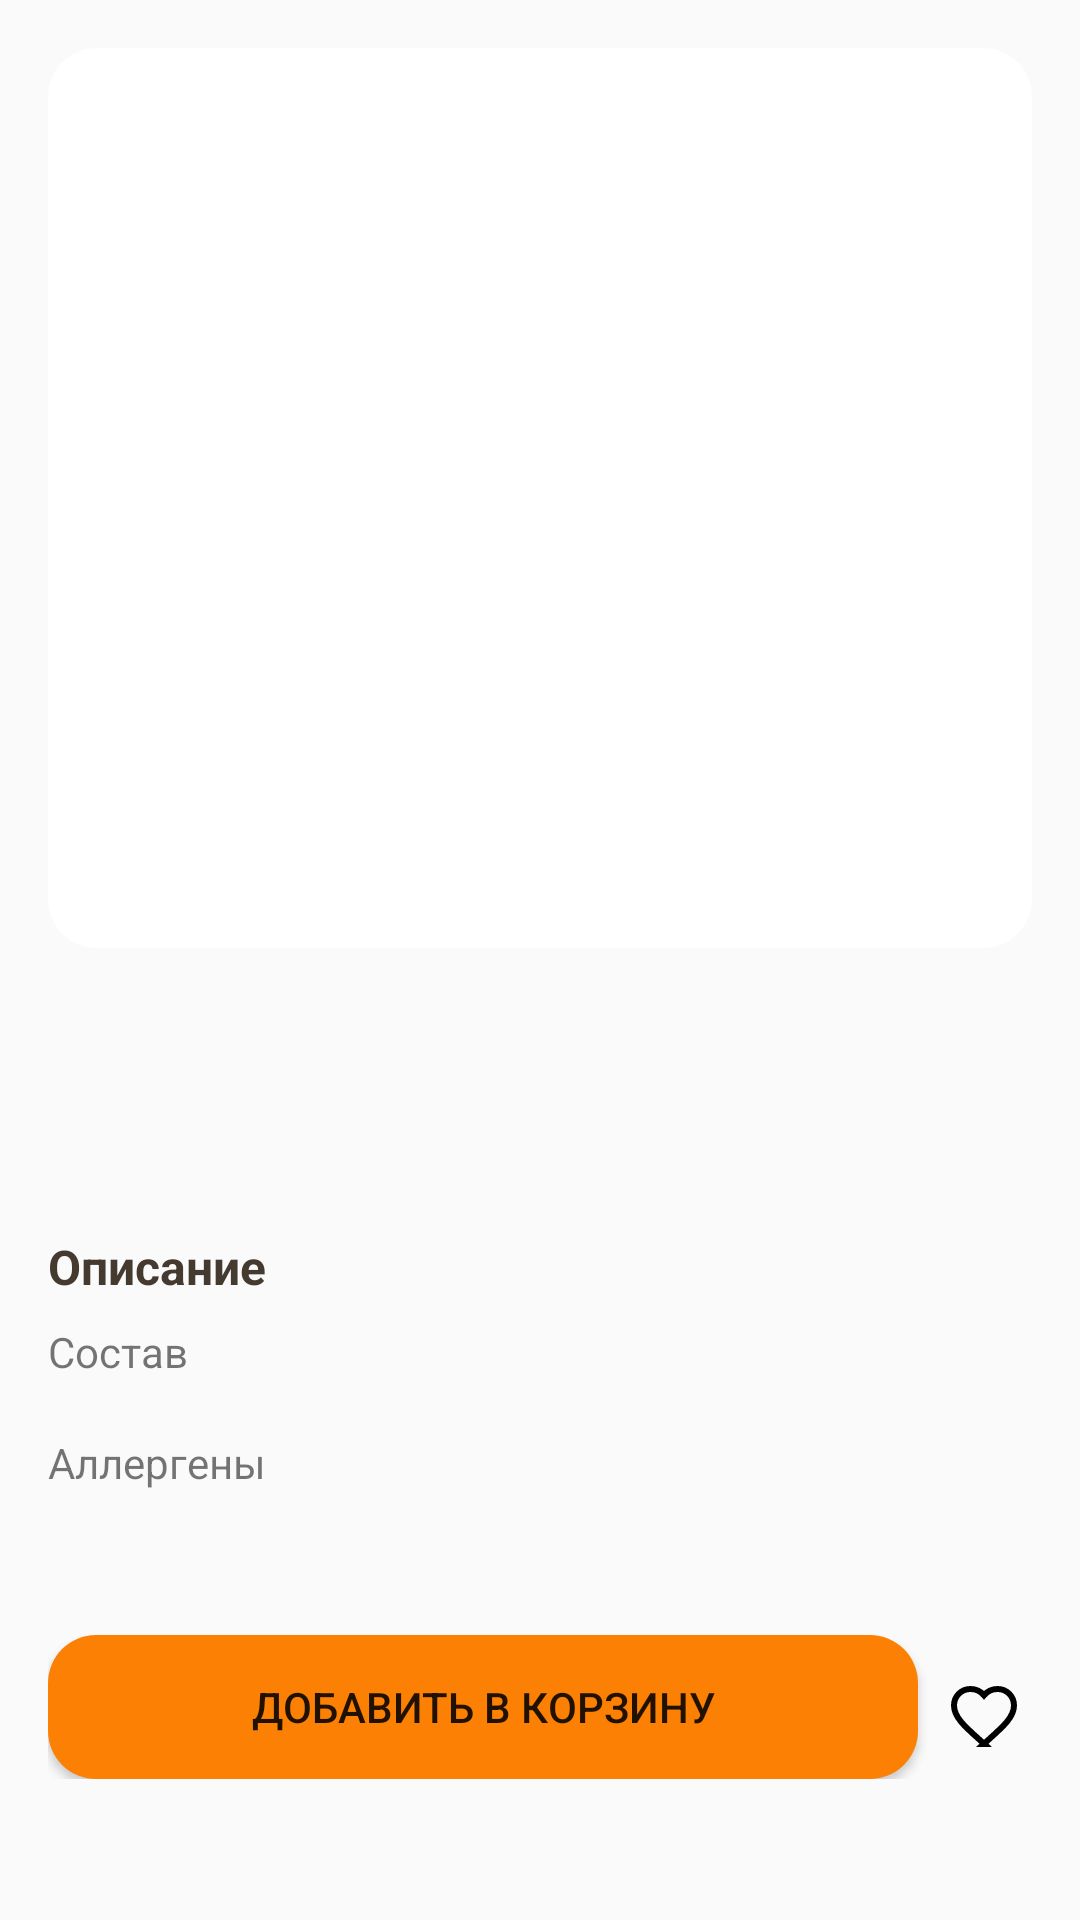

Icons on this 1080x1920 Android screen, each with its box as (x1,y1,x2,y2):
heart: (951,1686,1017,1747)
